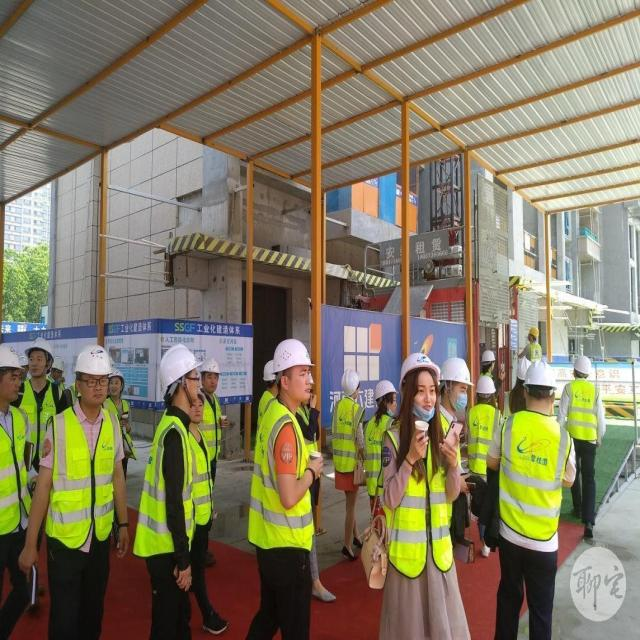helmet: (154, 341, 205, 386), (70, 346, 114, 383), (266, 337, 314, 370), (521, 363, 562, 391)
vest: (47, 406, 128, 558), (248, 402, 318, 548), (501, 405, 567, 545), (144, 421, 192, 555)
